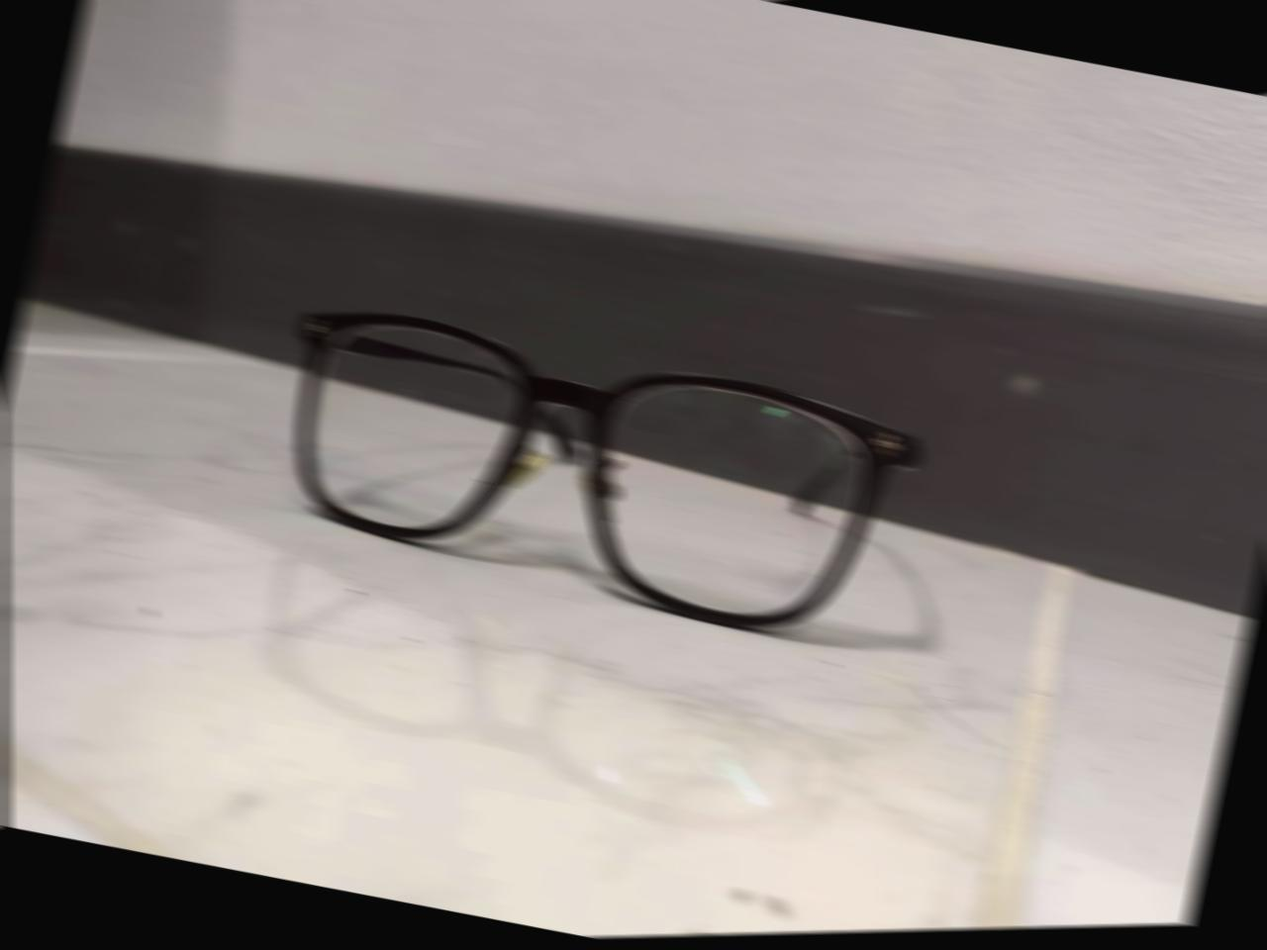glasses: (238, 272, 944, 679)
